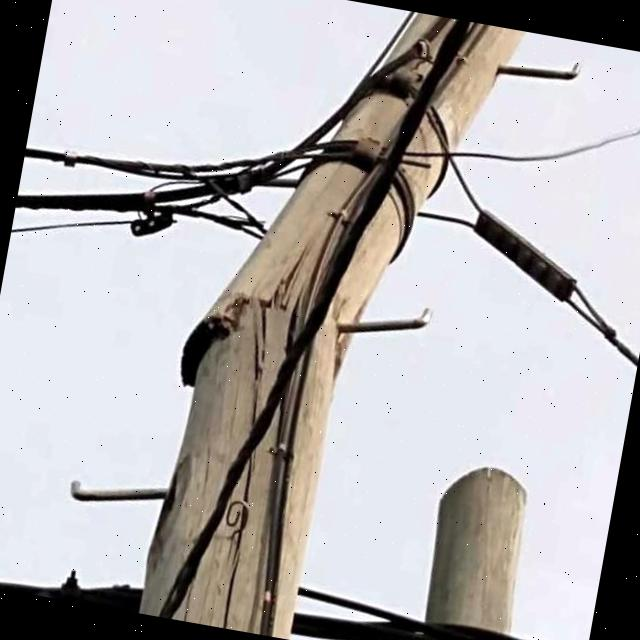Broken Pole: (145, 14, 530, 628)
